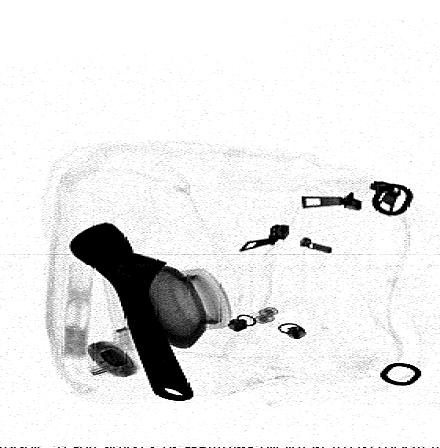Wrench: (66, 220, 197, 402)
